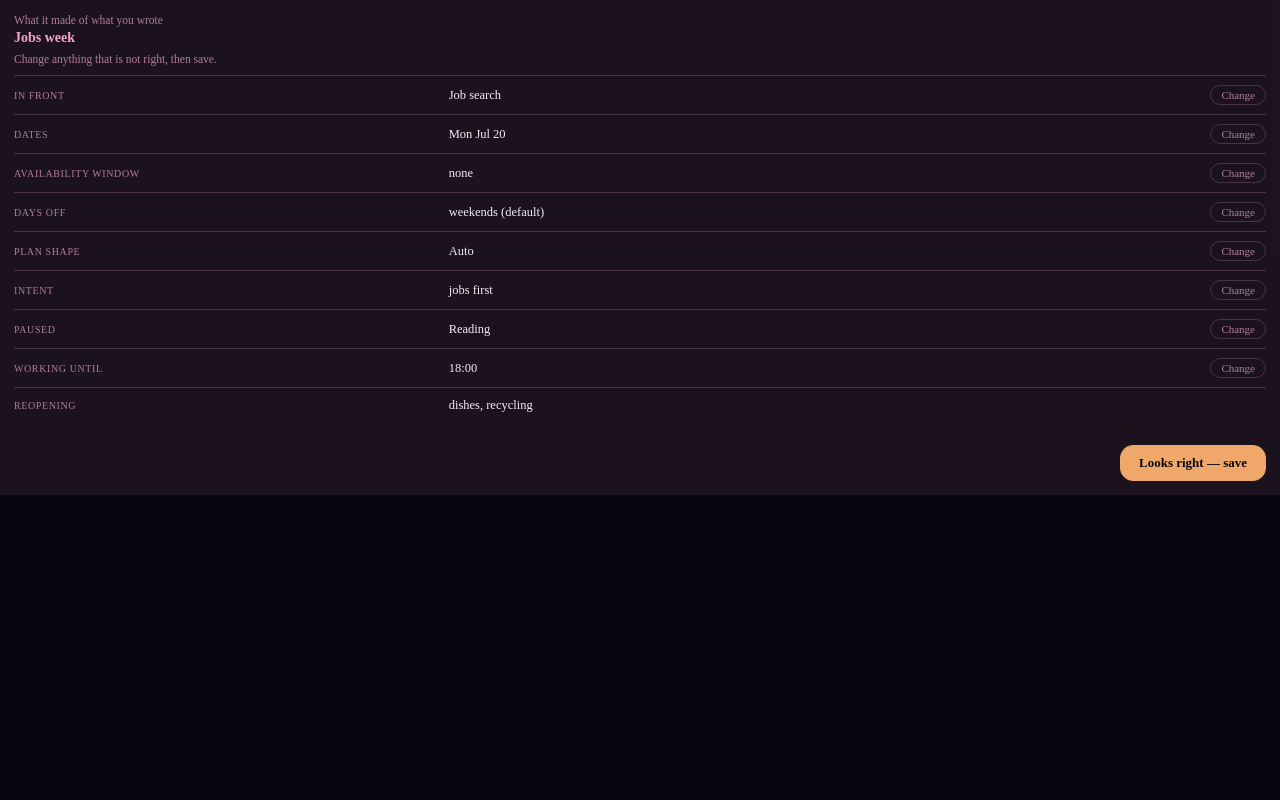
Test: each item opens its own editor — not a text box for everything › opens ONE editor at a time
Check: the text "Jobs week" is shown, box [14,30,75,45]
Click the button with aria-label "change Dates" at coordinates (1238, 134), box [1210,124,1266,144]
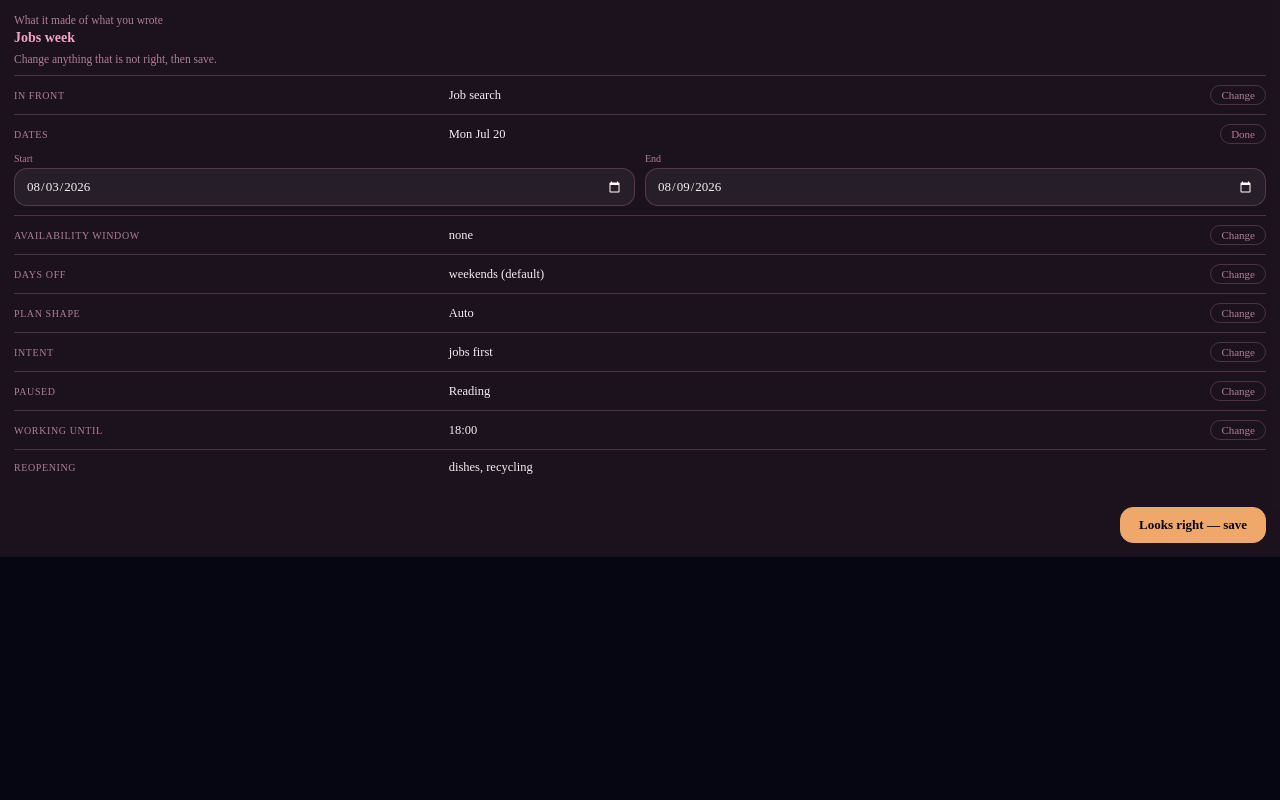
Click the button with aria-label "change Plan shape" at coordinates (1238, 313), box [1210,303,1266,323]
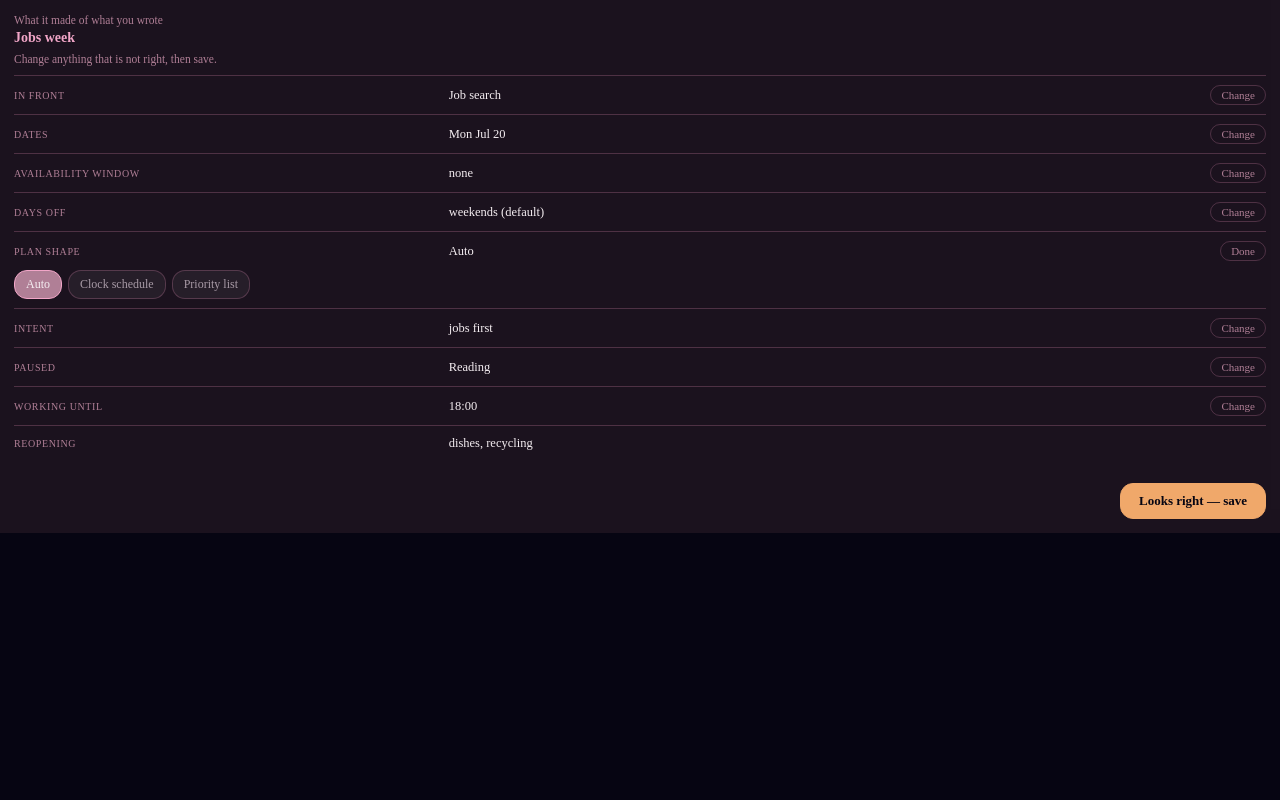
Check: the text "Start" is gone
Check: the button "Clock schedule" is shown, box [68,270,166,299]
